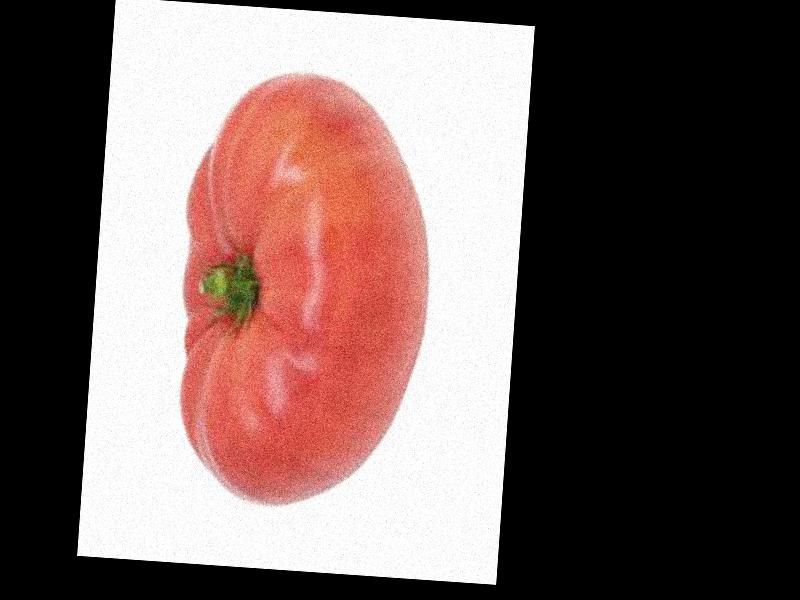Tomato: (172, 65, 440, 513)
